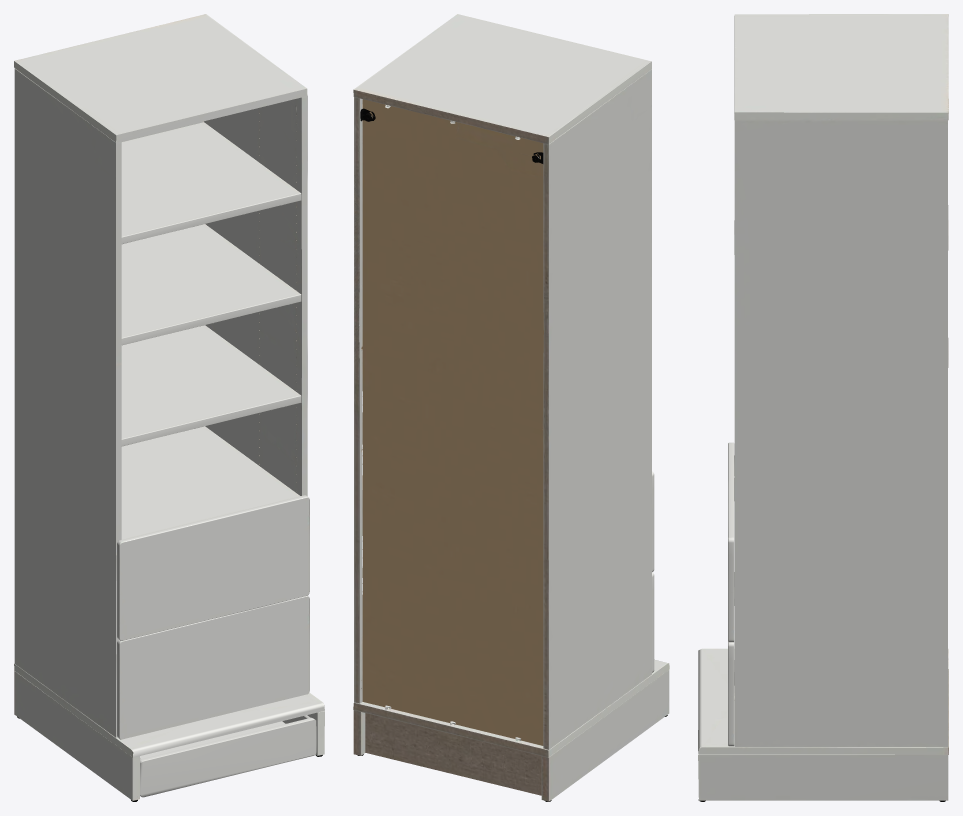
Rendered from smastad_platsa_rega_69483265.glb.
The picture shows the model from 3 angles, left to right: view 1: azimuth 30°, elevation 25°; view 2: azimuth 150°, elevation 25°; view 3: azimuth 270°, elevation 25°; orthographic projection. The views are drawn at different scales.
Parts seen in each view (by area): view 1: smastad_platsa_rega_69483265; view 2: smastad_platsa_rega_69483265; view 3: smastad_platsa_rega_69483265.
Boxes of the visible parts, x1,y1,x2,y2 form: smastad_platsa_rega_69483265: [14, 14, 324, 801]; smastad_platsa_rega_69483265: [353, 14, 669, 801]; smastad_platsa_rega_69483265: [698, 14, 948, 801].
Size of the model in its own units: 0.6021 by 1.96 by 0.6461.
Materials: 4 (4 with a texture image).
